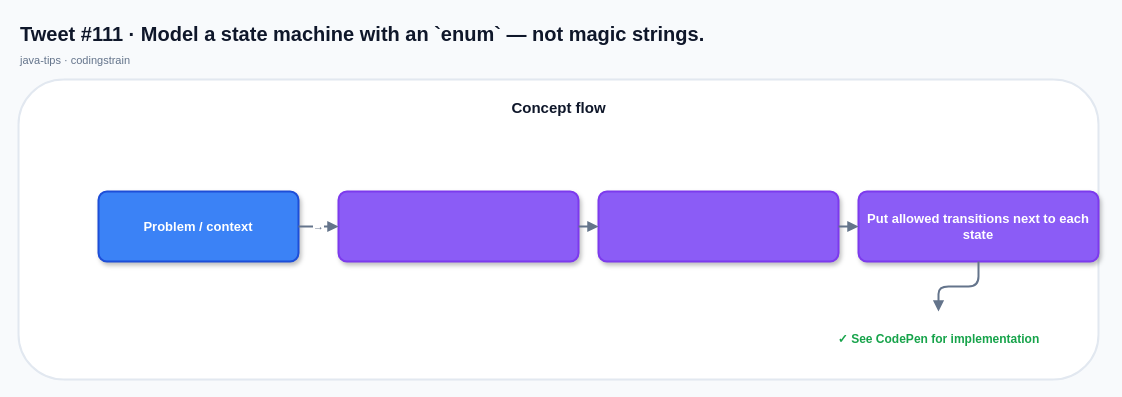
The diagram is 1122 pixels wide and 397 high, and some of its shapes have lost their labels. The centre of each missing label's shape, as x and y in pixels:
"Named constants beat typo-prone string statuses" goes at point 719,227.
"💡 Model a state machine with an `enum` — not magic strings." goes at point 459,227.
